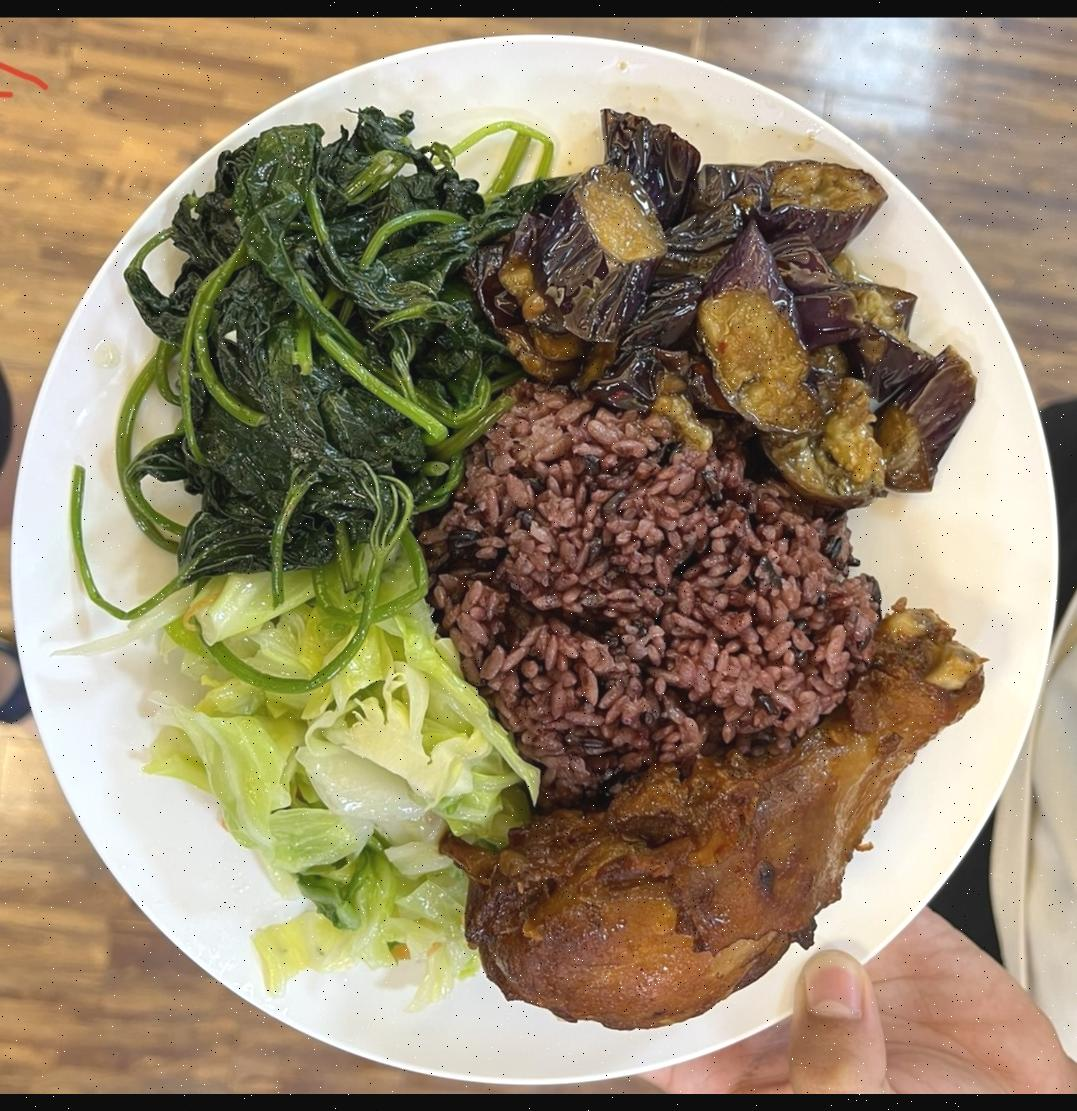honey grilled chicken leg: (469, 622, 976, 1036)
plate: (0, 30, 1071, 1082)
purple rice: (420, 378, 894, 755)
side dish: (474, 117, 988, 502), (163, 524, 536, 1002), (132, 112, 514, 554)
